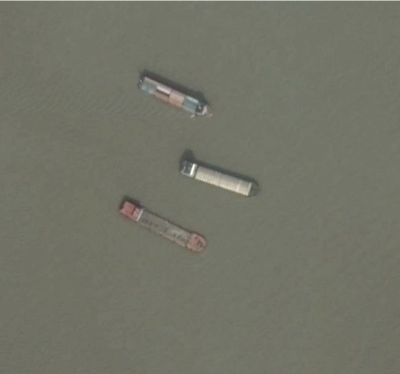boat: (118, 199, 209, 254), (178, 156, 262, 199), (136, 74, 213, 120)
